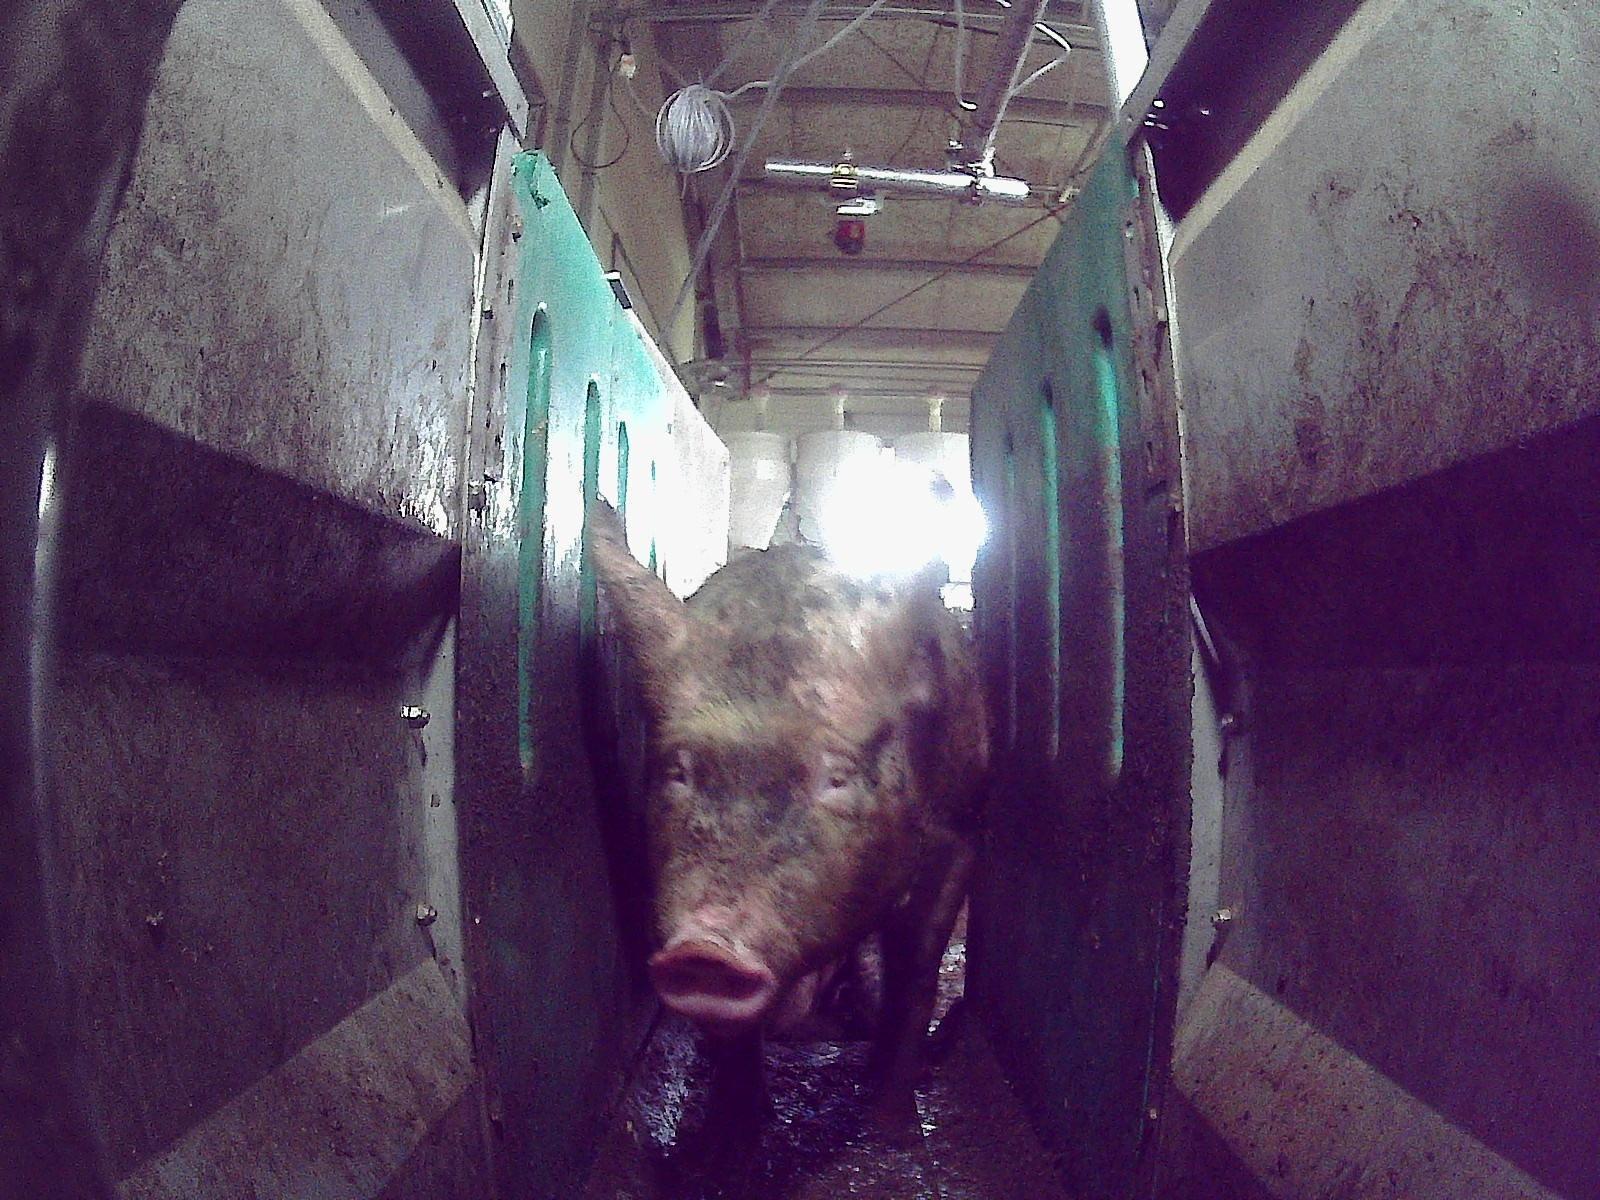Face: (636, 618, 917, 1023)
